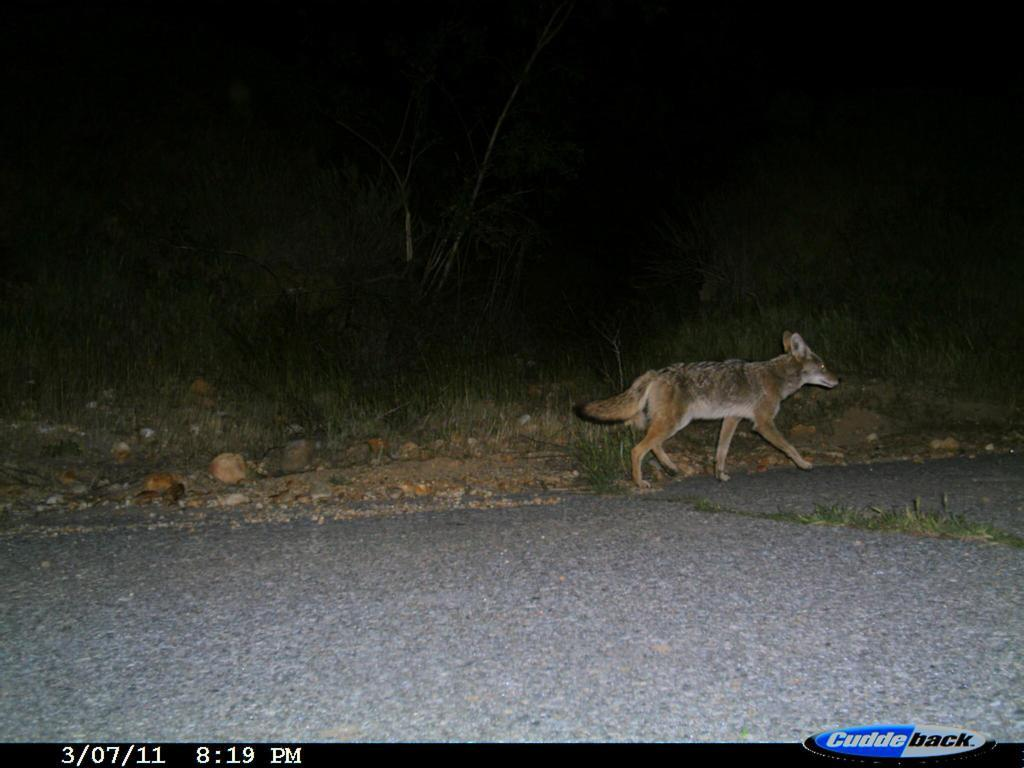coyote: (571, 326, 847, 495)
